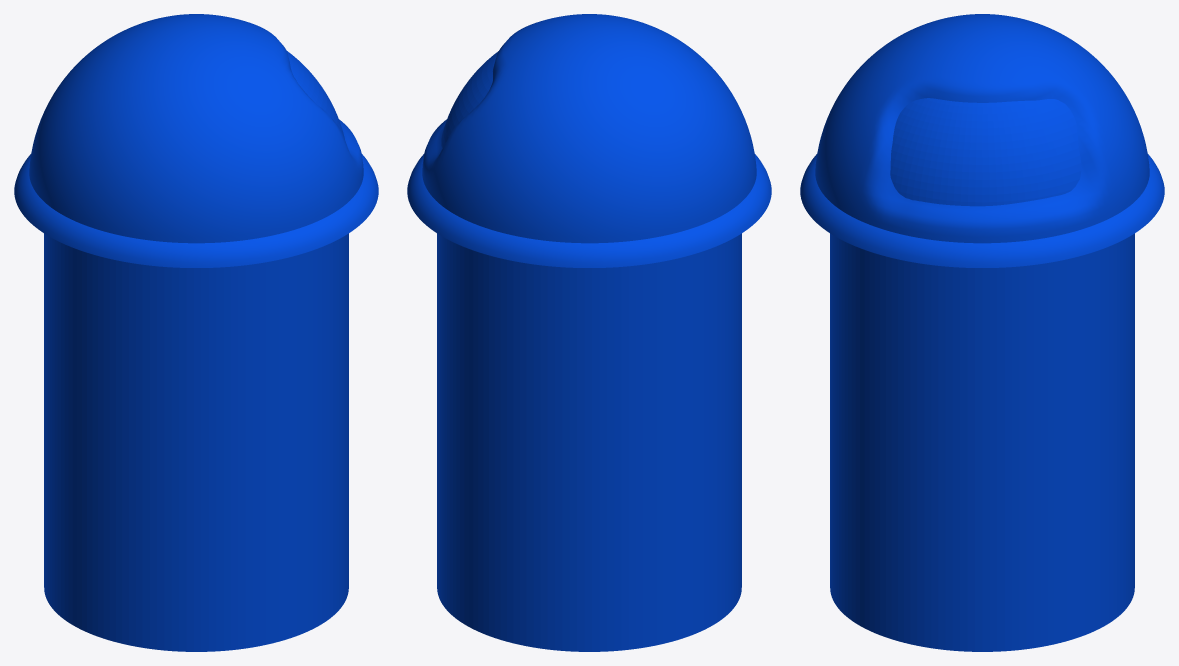
3 views of the same model, side by side, from view 1: azimuth 30°, elevation 25°; view 2: azimuth 150°, elevation 25°; view 3: azimuth 270°, elevation 25° (orthographic).
Parts seen in each view (by area): view 1: Cylinder, Lid, Torus thing; view 2: Cylinder, Lid, Torus thing; view 3: Cylinder, Lid, Torus thing.
Boxes of the visible parts, <box> form: Cylinder: <box>44,51,348,651</box>; Lid: <box>29,14,363,243</box>; Torus thing: <box>14,154,378,267</box>; Cylinder: <box>437,51,741,651</box>; Lid: <box>422,14,756,243</box>; Torus thing: <box>407,154,771,267</box>; Cylinder: <box>830,98,1134,651</box>; Lid: <box>815,14,1149,243</box>; Torus thing: <box>800,154,1164,267</box>.
Bounding box in the file's own units: 1.2 × 2.02 × 1.2.
Materials: 4 (2 with a texture image).
